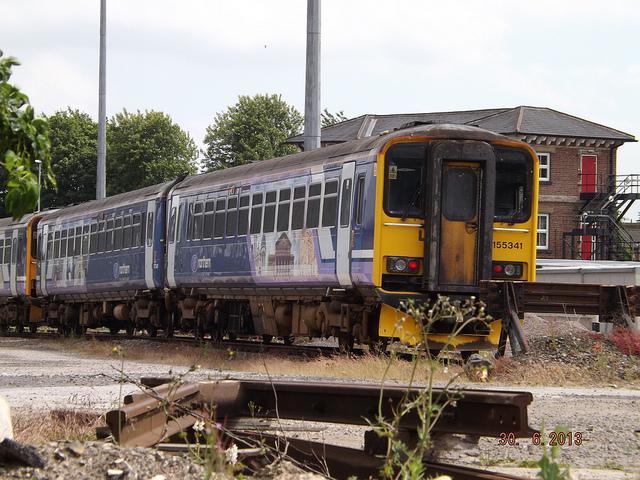Train: (0, 123, 536, 347)
